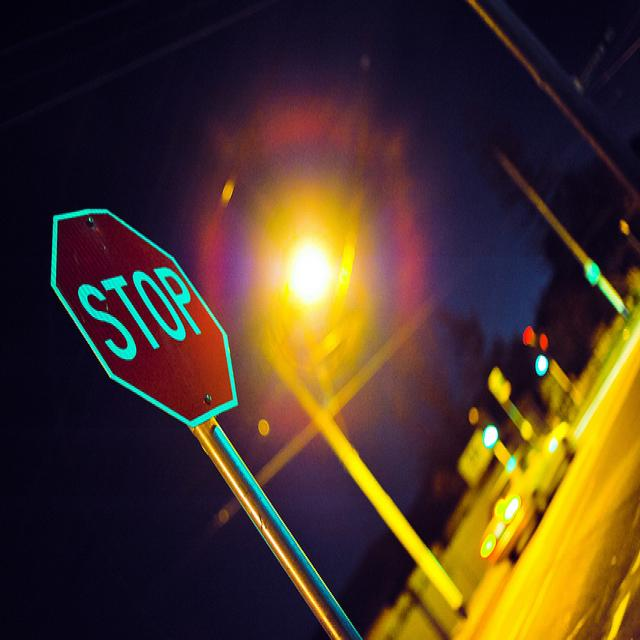Vehicle: (478, 419, 576, 567)
